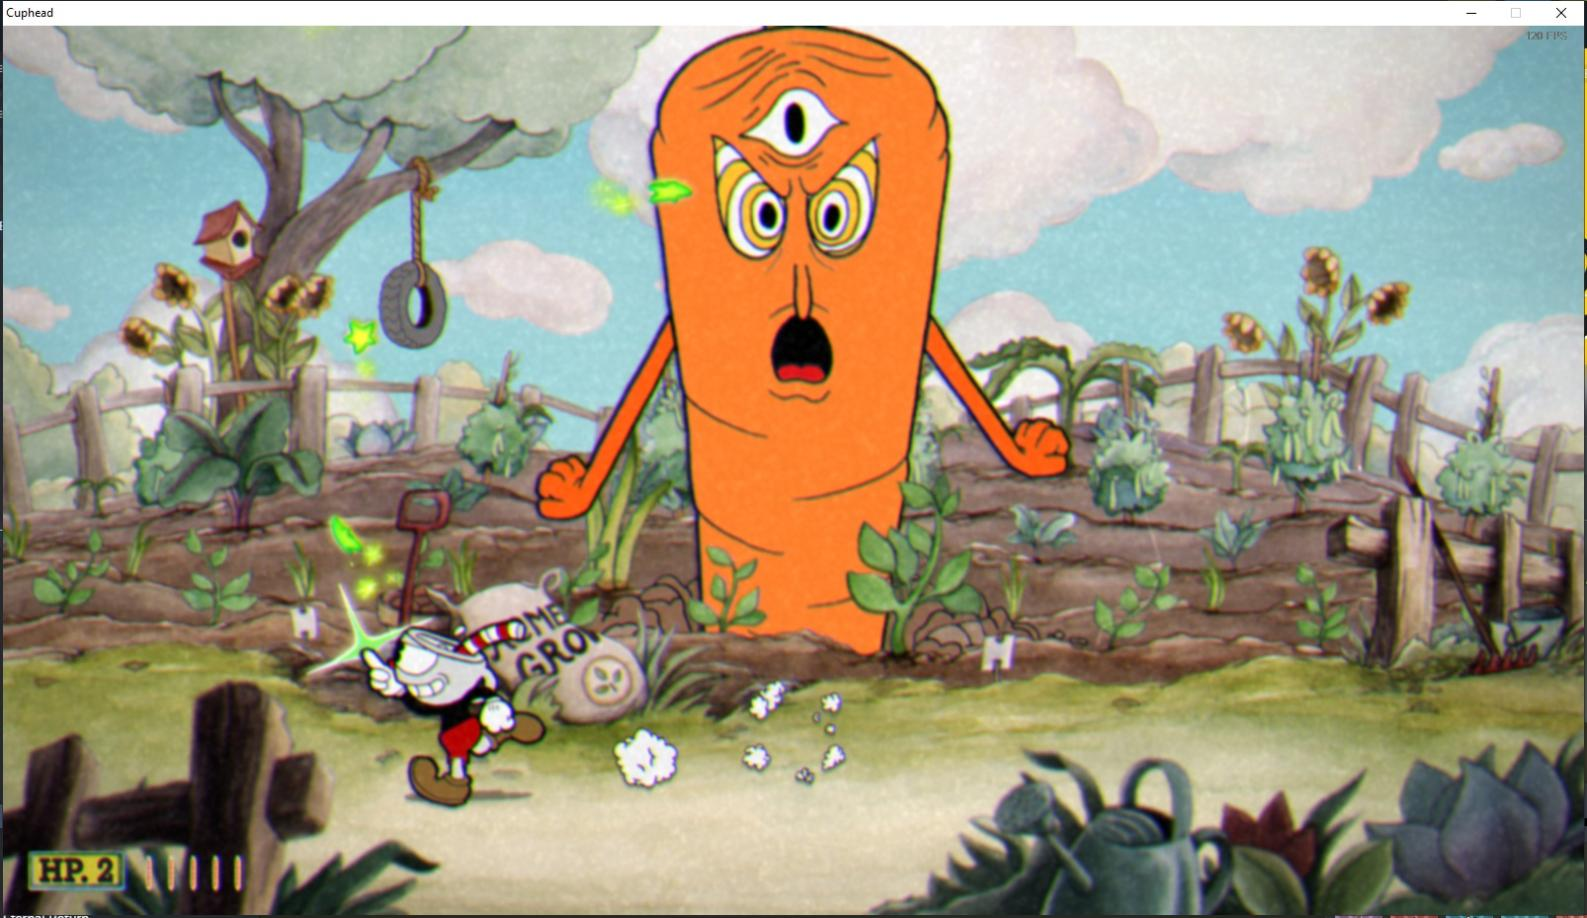hp2: (91, 853, 122, 890)
player: (340, 607, 568, 809)
